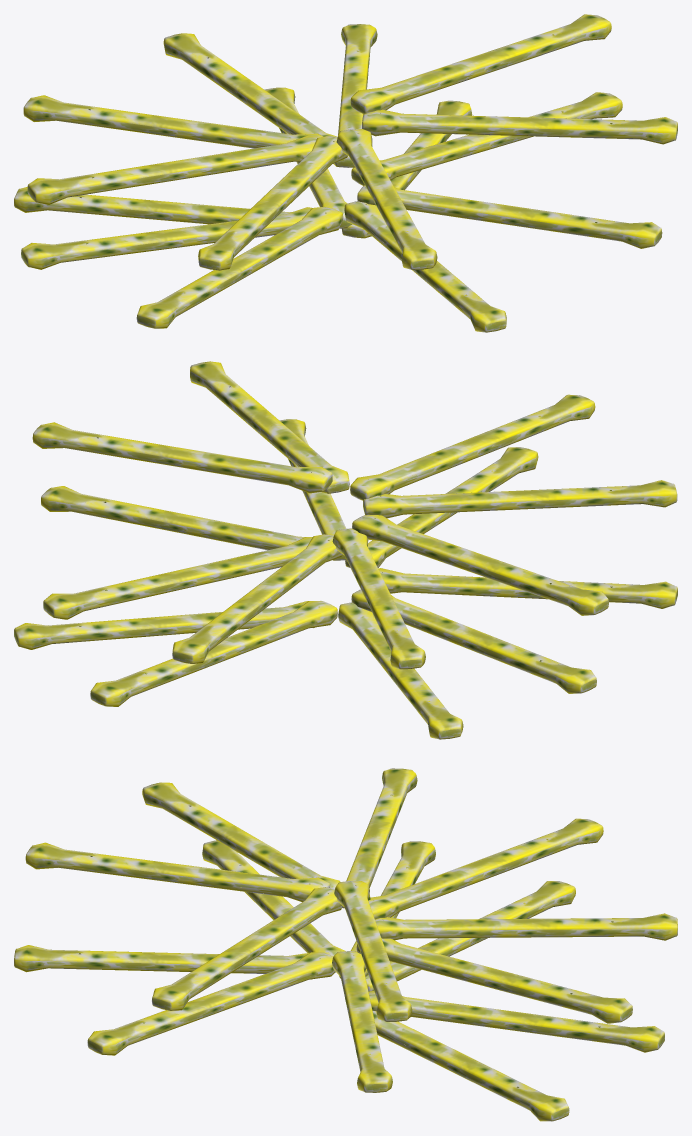
File: AsterionellaFormos_comb3.FBX
3 views of the same model, one above another, from view 1: azimuth 30°, elevation 25°; view 2: azimuth 150°, elevation 25°; view 3: azimuth 270°, elevation 25° (orthographic).
Parts seen in each view (by area): view 1: ChamferBox005, ChamferBox008, ChamferBox006, ChamferBox016, ChamferBox003, ChamferBox009, ChamferBox012, ChamferBox002, ChamferBox001, ChamferBox015, ChamferBox004, ChamferBox010 (+4 smaller); view 2: ChamferBox002, ChamferBox006, ChamferBox008, ChamferBox001, ChamferBox007, ChamferBox011, ChamferBox015, ChamferBox012, ChamferBox004, ChamferBox013, ChamferBox009, ChamferBox005 (+4 smaller); view 3: ChamferBox004, ChamferBox001, ChamferBox016, ChamferBox007, ChamferBox011, ChamferBox003, ChamferBox005, ChamferBox014, ChamferBox013, ChamferBox002, ChamferBox006, ChamferBox015 (+4 smaller).
Boxes of the visible parts, left/top/right/bottom form: ChamferBox005: left=362, top=109, right=677, bottom=144; ChamferBox008: left=27, top=135, right=320, bottom=204; ChamferBox006: left=350, top=14, right=611, bottom=113; ChamferBox016: left=357, top=185, right=662, bottom=248; ChamferBox003: left=23, top=95, right=323, bottom=148; ChamferBox009: left=136, top=206, right=343, bottom=328; ChamferBox012: left=21, top=207, right=311, bottom=269; ChamferBox002: left=198, top=136, right=347, bottom=270; ChamferBox001: left=336, top=129, right=437, bottom=269; ChamferBox015: left=351, top=92, right=622, bottom=185; ChamferBox004: left=163, top=33, right=337, bottom=136; ChamferBox010: left=14, top=187, right=291, bottom=224; ChamferBox002: left=363, top=480, right=677, bottom=518; ChamferBox006: left=32, top=422, right=332, bottom=493; ChamferBox008: left=352, top=515, right=608, bottom=615; ChamferBox001: left=350, top=394, right=595, bottom=500; ChamferBox007: left=43, top=537, right=311, bottom=619; ChamferBox011: left=90, top=601, right=337, bottom=706; ChamferBox015: left=41, top=486, right=312, bottom=550; ChamferBox012: left=351, top=589, right=596, bottom=693; ChamferBox004: left=172, top=534, right=342, bottom=663; ChamferBox013: left=14, top=601, right=314, bottom=649; ChamferBox009: left=378, top=568, right=677, bottom=608; ChamferBox005: left=190, top=361, right=349, bottom=493; ChamferBox004: left=375, top=913, right=677, bottom=940; ChamferBox001: left=25, top=842, right=330, bottom=901; ChamferBox016: left=87, top=952, right=335, bottom=1055; ChamferBox007: left=356, top=938, right=632, bottom=1023; ChamferBox011: left=368, top=991, right=664, bottom=1052; ChamferBox003: left=368, top=818, right=603, bottom=920; ChamferBox005: left=152, top=887, right=342, bottom=1010; ChamferBox014: left=14, top=945, right=311, bottom=979; ChamferBox013: left=372, top=1011, right=569, bottom=1121; ChamferBox002: left=142, top=782, right=340, bottom=888; ChamferBox006: left=334, top=881, right=412, bottom=1021; ChamferBox015: left=332, top=951, right=392, bottom=1092.
Bounding box in the file's own units: 221 × 53.85 × 224.
1 material, 1 textured.
